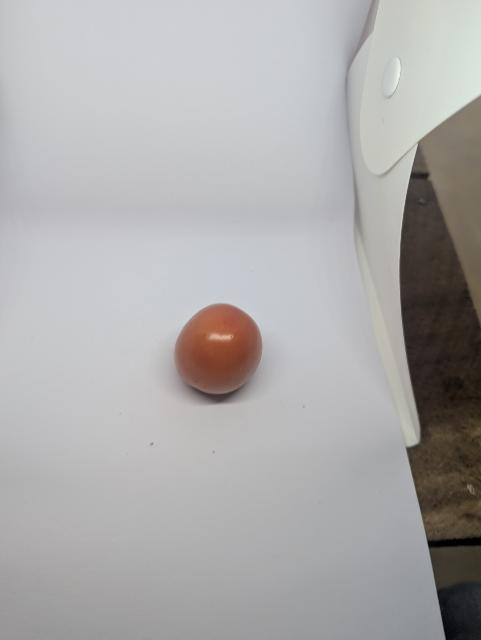red: (167, 291, 272, 412)
